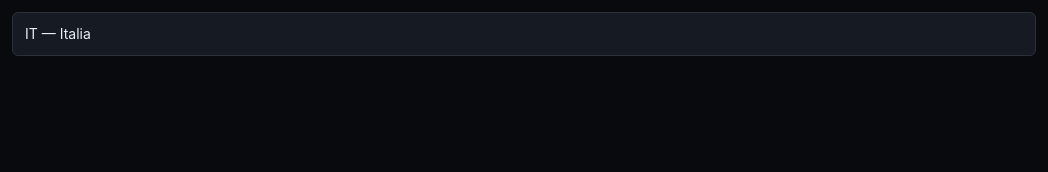
Test: CountrySelect › seleziona con un click e notifica il codice
This screenshot has width=1048, height=172.
Replace the text in the dropdown with "giappone" at (524, 34), box [12, 12, 1036, 56]
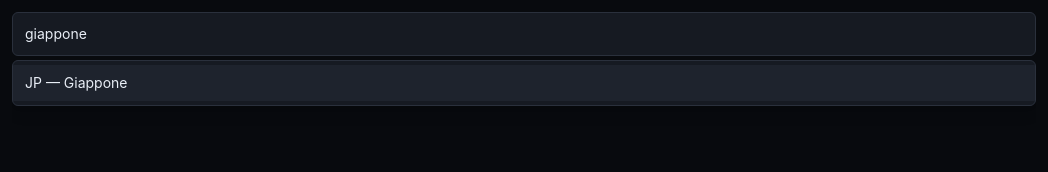
Press the mouse on the option "JP — Giappone" at (96, 82), box [13, 65, 1035, 101]
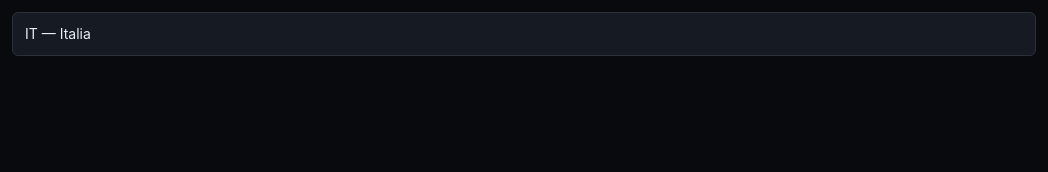
Expected: the list is gone
